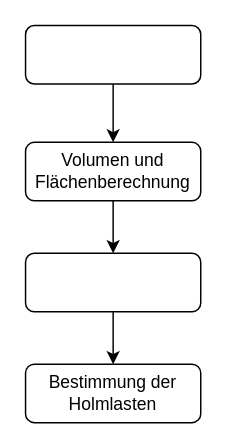
The diagram is 226 pixels wide and 448 high, and some of its shapes have lost their labels. Each missing label, with the centre of its shape:
Bestimmung sicherer Lasten: pixel 112 282
Parameter-bestimmung: pixel 112 54
